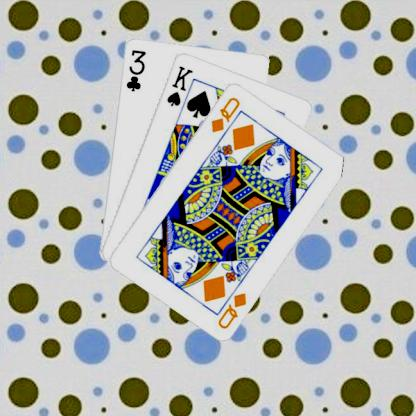3C: (123, 46, 147, 92)
KS: (164, 62, 194, 108)
QD: (214, 289, 248, 330), (208, 94, 241, 134)
